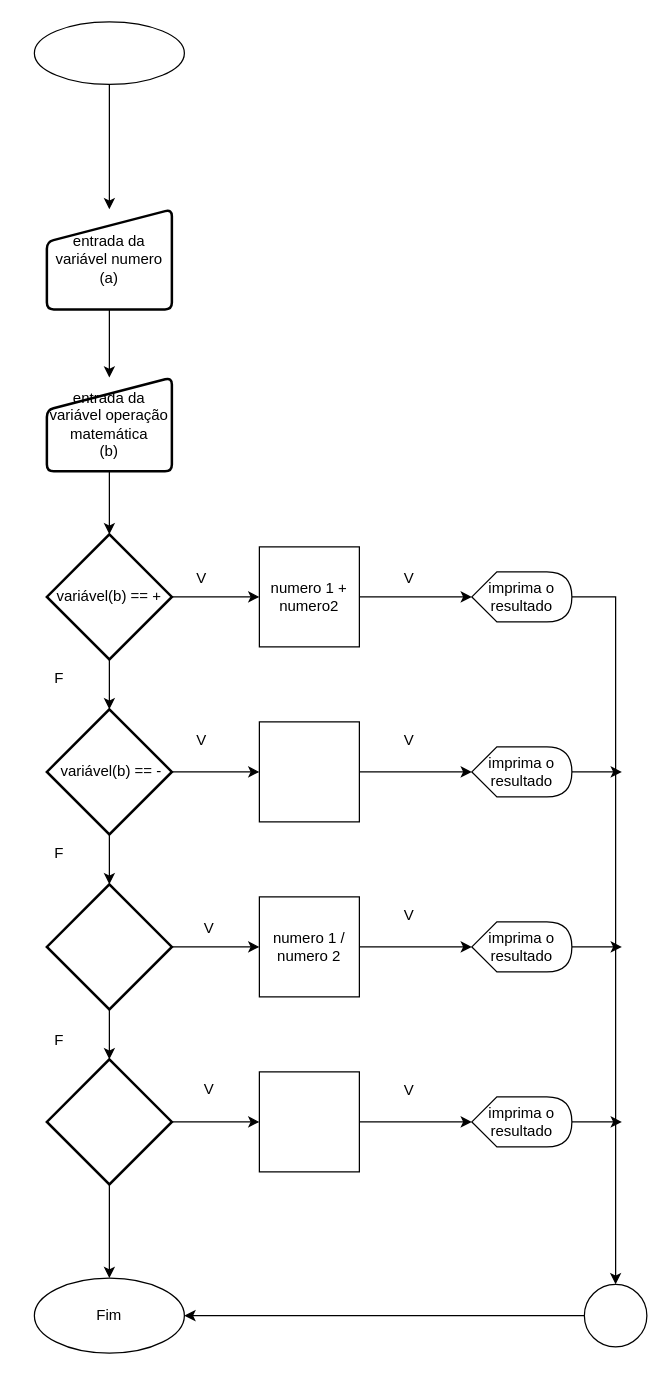
The diagram is 669 pixels wide and 1375 high, and some of its shapes have lost their labels. Here are the shapes that lost their labels. From the top down, the box of each, then its label:
(33, 21, 184, 84): Inicio
(258, 721, 359, 822): numero 1 - numero 2
(45, 882, 172, 1010): variável(b) == /
(45, 1058, 172, 1185): variável(b) == *
(258, 1071, 359, 1172): numero 1 * numero 2
